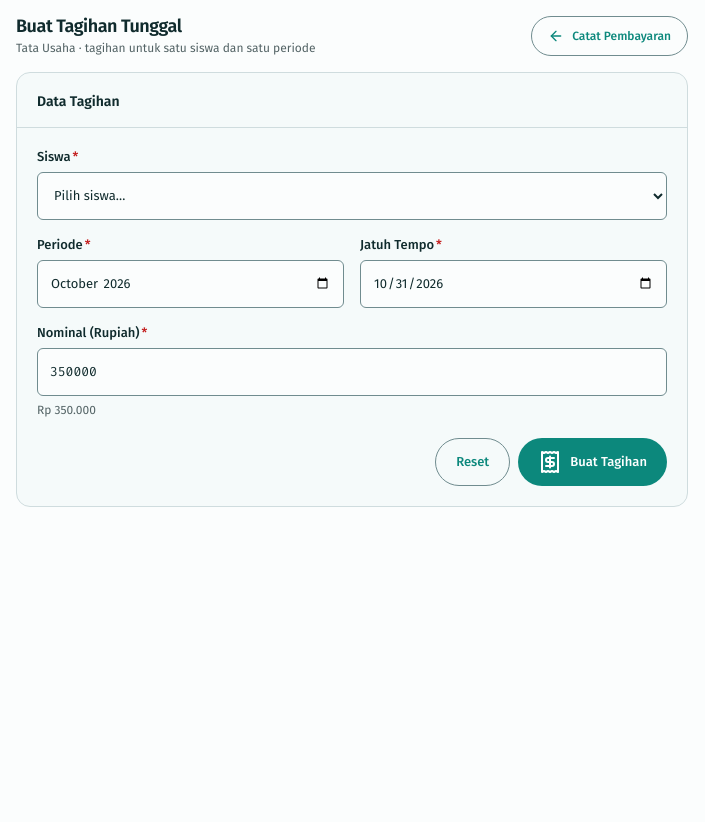
Test case: SppSingleBillPage › creates a bill and shows a success toast
Select "Ahmad Fauzi · 2026001" in the dropdown labelled "Siswa*" at (352, 196), box [37,172,667,220]
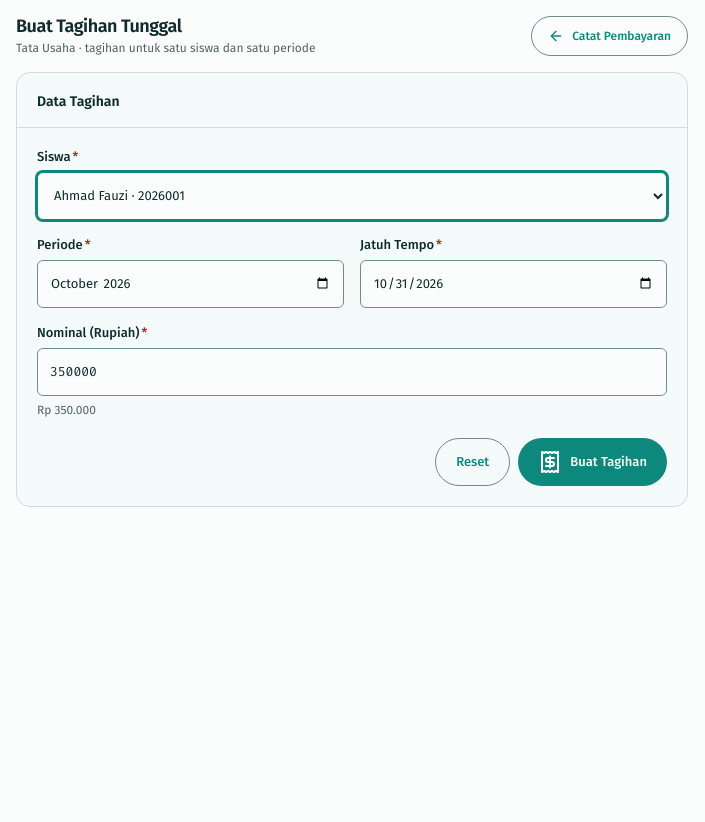
Click the button "Buat Tagihan" at (593, 462), box [518,438,667,486]
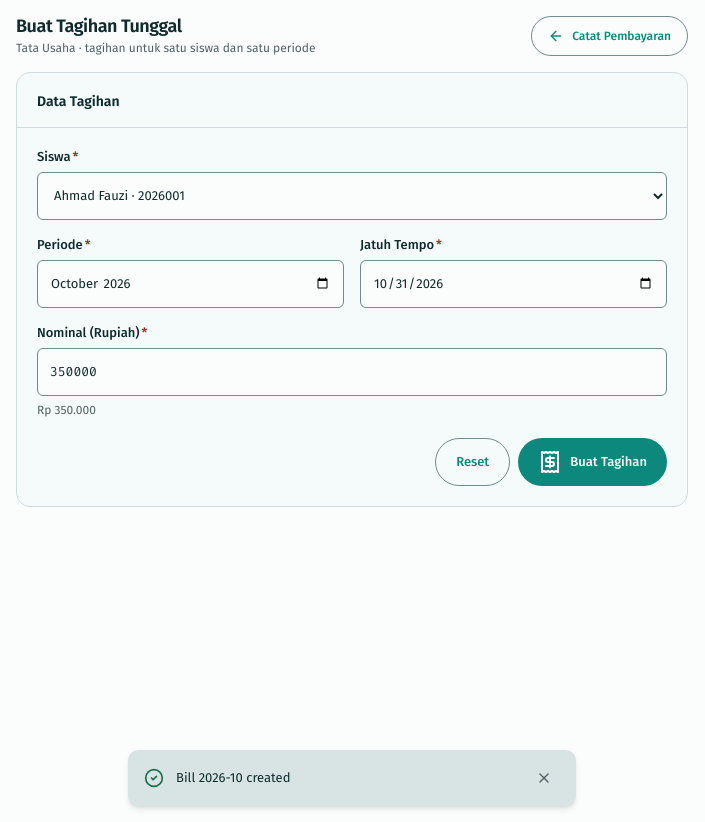
Check: the text "Bill 2026-10 created" is shown, box [176,770,290,785]
